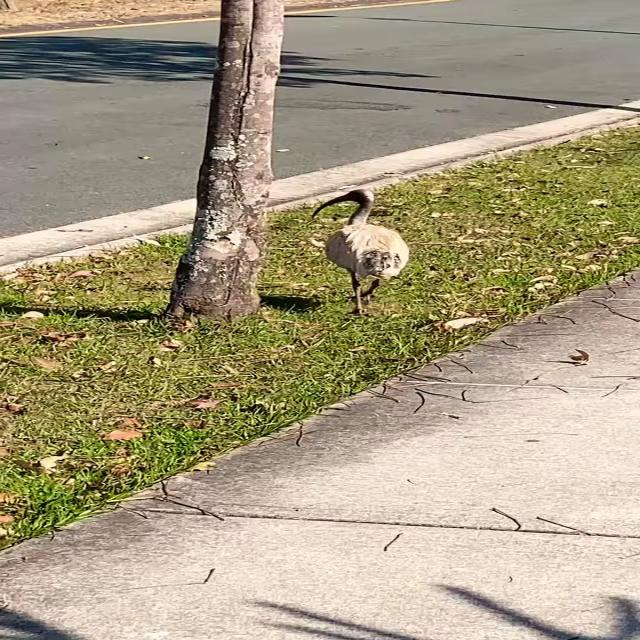Birds-Ibis: (304, 183, 416, 319)
